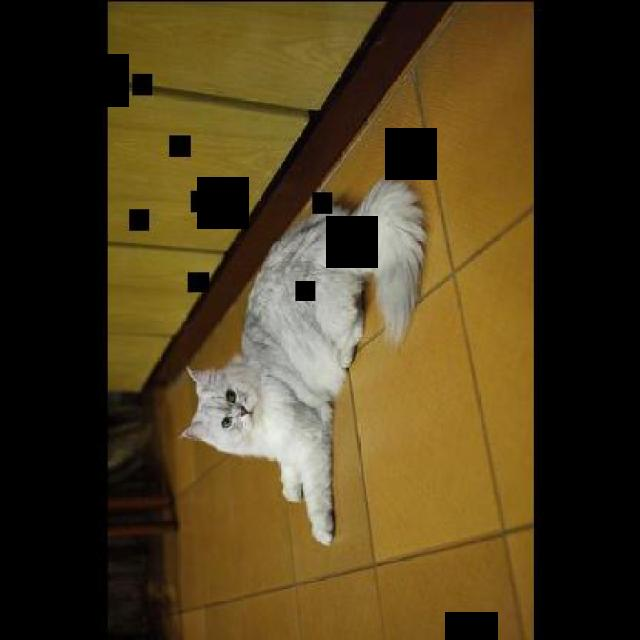unauthorized: (177, 171, 428, 546)
